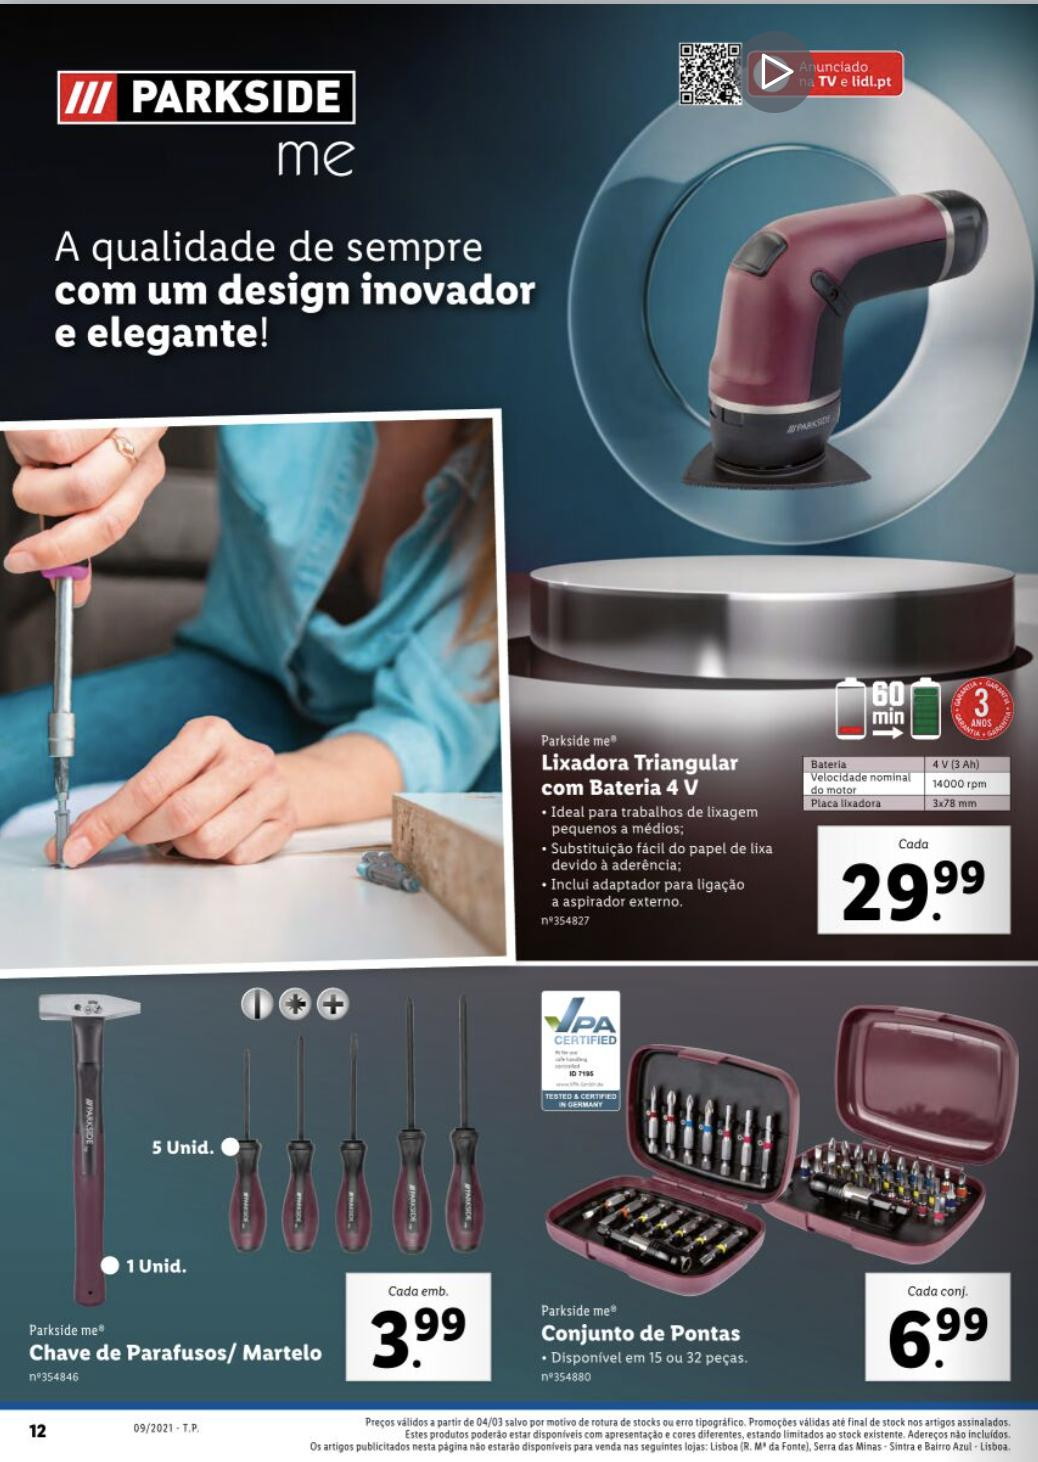name: (535, 746, 744, 803), (26, 1343, 328, 1374), (539, 1323, 746, 1354)
price: (837, 855, 995, 925), (366, 1299, 471, 1374), (887, 1303, 999, 1368)
product: (517, 117, 1029, 965), (11, 966, 513, 1405), (523, 975, 1029, 1399)
